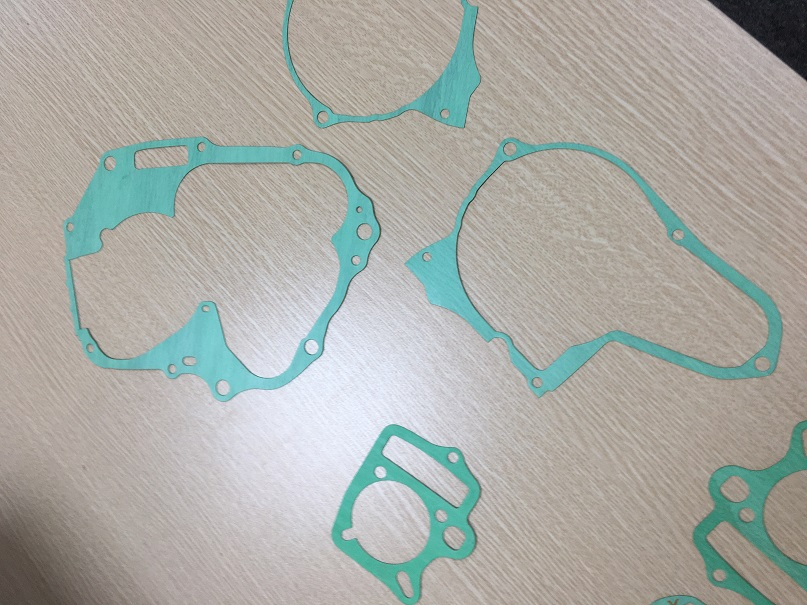type1: (400, 133, 791, 402)
type3: (54, 134, 390, 404)
type4: (325, 420, 482, 605)
